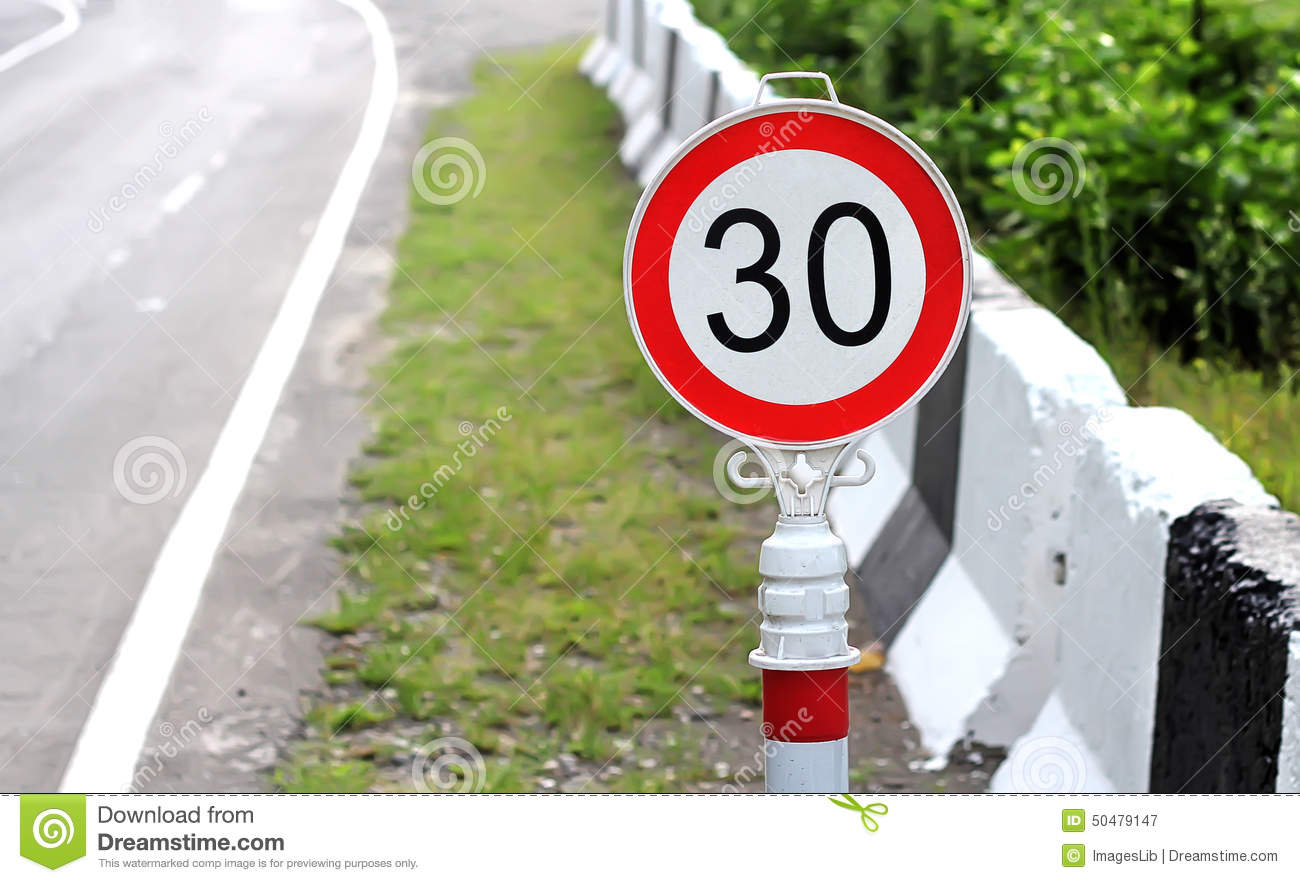Speed_limit_30km: (624, 101, 969, 439)
